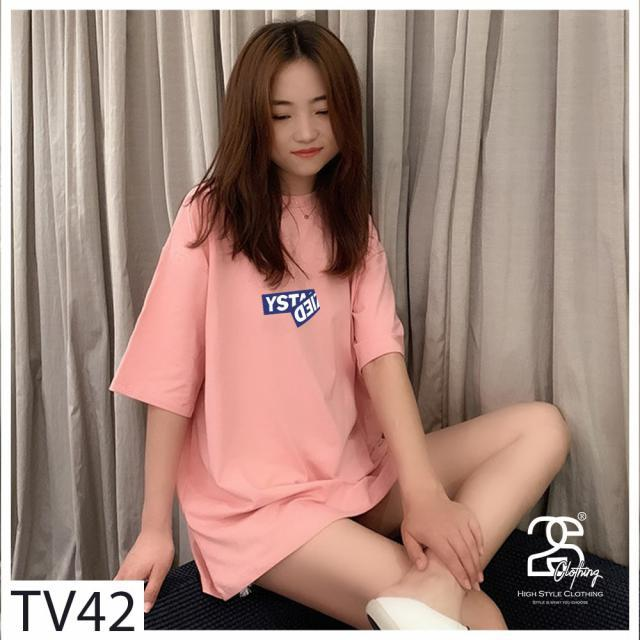Shirt: (114, 172, 411, 594)
